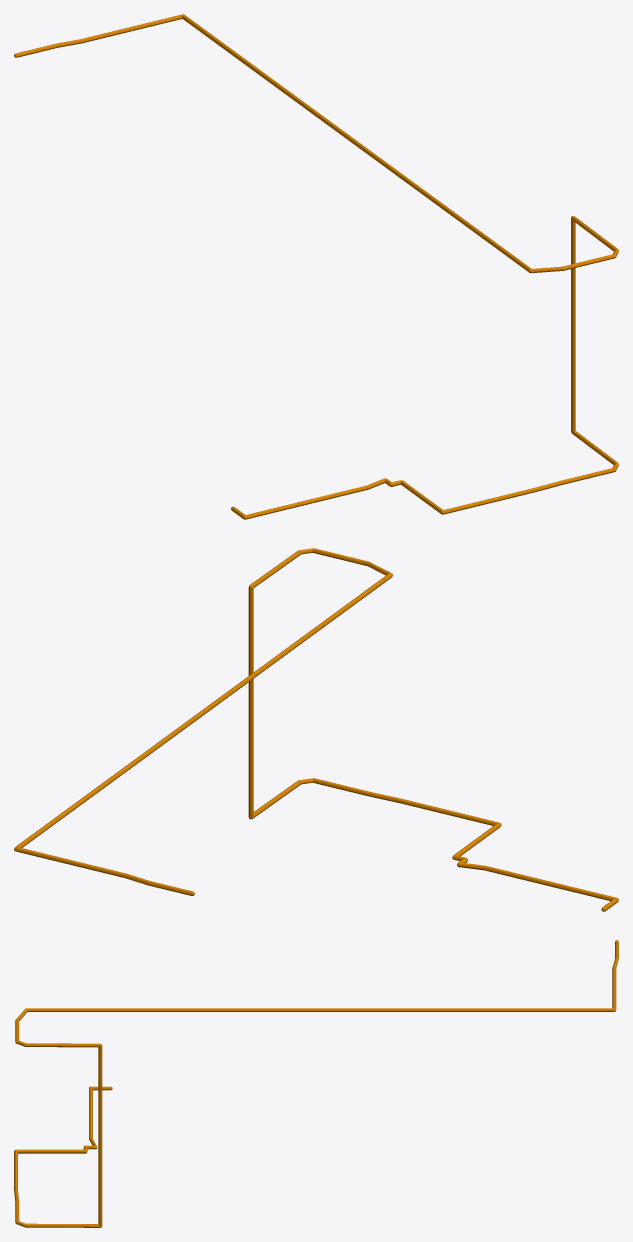
The picture shows the model from 3 angles, top to bottom: view 1: azimuth 30°, elevation 25°; view 2: azimuth 150°, elevation 25°; view 3: azimuth 270°, elevation 25°; orthographic projection. The views are drawn at different scales.
Size of the model in its own units: 1655 by 1020 by 3037.
